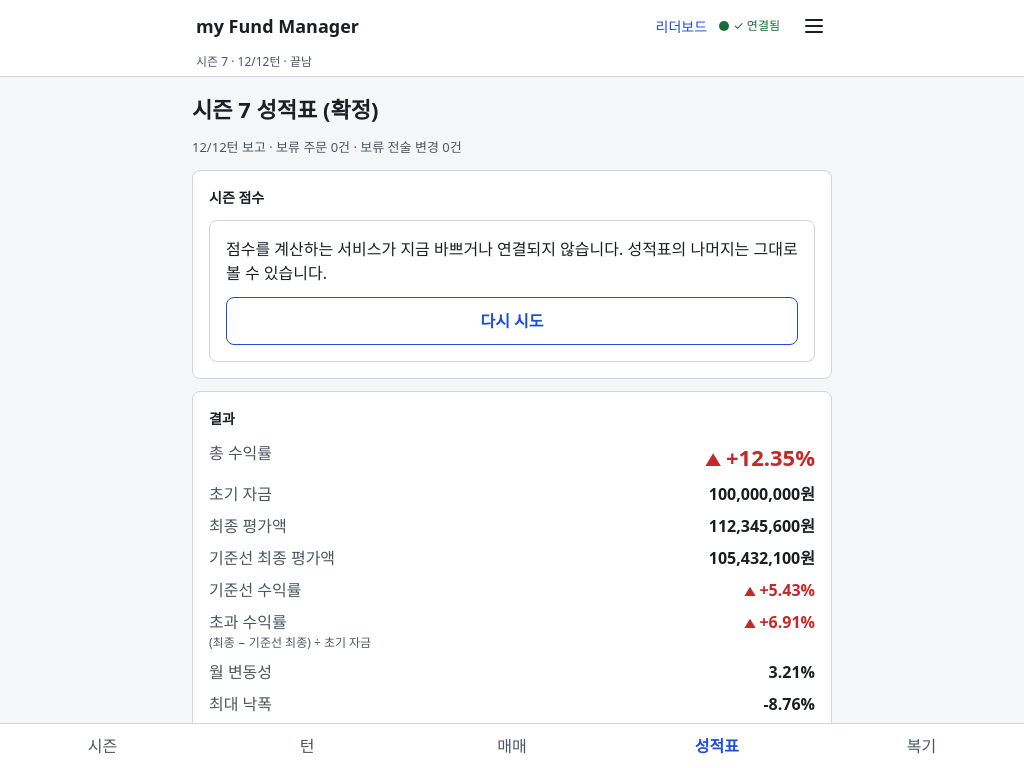
Test: ReportPage score card › S5: a 503 gives a calm status with a retry; the report stays; one GET per click, none on its own
Expected: the heading "시즌 7 성적표 (확정)" is shown, [192,94,378,124]
Expected: the element "시즌 점수" shows "지금 바쁘거나 연결되지 않습니다", [226,238,798,284]
Step 1. Click the button "다시 시도" → (512, 320), box [226,296,798,344]
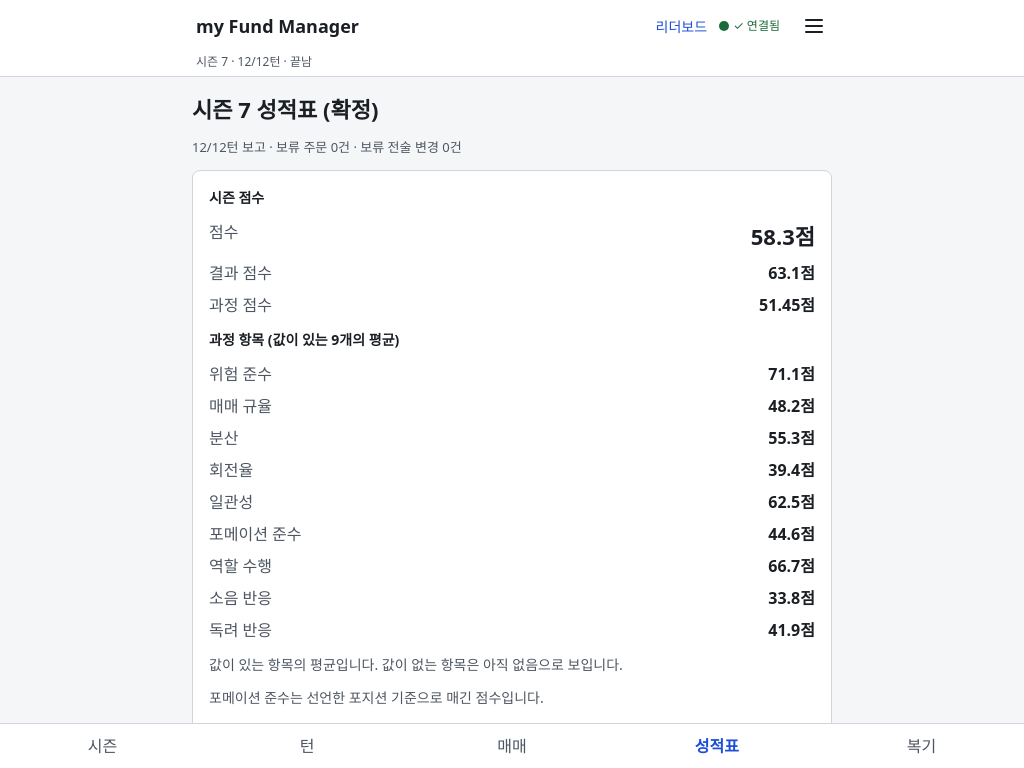
Result: the text "58.3점" is shown at [751,220,815,252]
Result: the button "다시 시도" is gone
